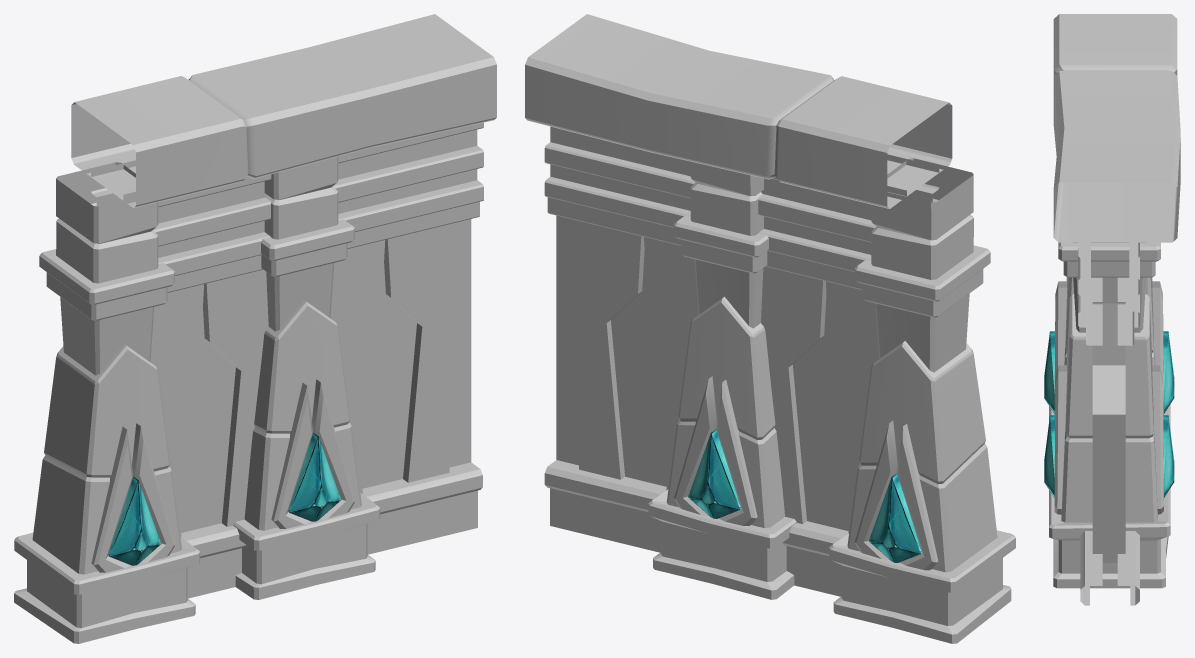
File: Moonset_FBX_wall_04_base_01.fbx
3 views of the same model, side by side, from view 1: azimuth 30°, elevation 25°; view 2: azimuth 150°, elevation 25°; view 3: azimuth 270°, elevation 25° (orthographic). The views are drawn at different scales.
Parts seen in each view (by area): view 1: Wall_4_base, Wall_4_Gem_Pillar1, Wall_4_Gem_Pillar; view 2: Wall_4_base, Wall_4_Gem_Pillar1, Wall_4_Gem_Pillar; view 3: Wall_4_base, Wall_4_Gem_Pillar, Wall_4_Gem_Pillar1.
Part boxes in pixels (x1=…): Wall_4_base: x1=71, y1=14, x2=496, y2=598; Wall_4_Gem_Pillar1: x1=14, y1=162, x2=200, y2=643; Wall_4_Gem_Pillar: x1=233, y1=156, x2=380, y2=599; Wall_4_base: x1=525, y1=14, x2=952, y2=596; Wall_4_Gem_Pillar1: x1=829, y1=158, x2=1015, y2=643; Wall_4_Gem_Pillar: x1=648, y1=161, x2=796, y2=599; Wall_4_base: x1=1053, y1=14, x2=1180, y2=605; Wall_4_Gem_Pillar: x1=1044, y1=242, x2=1174, y2=588; Wall_4_Gem_Pillar1: x1=1044, y1=277, x2=1174, y2=431.
Bounding box in the file's own units: 7.06 × 7.67 × 2.06.
